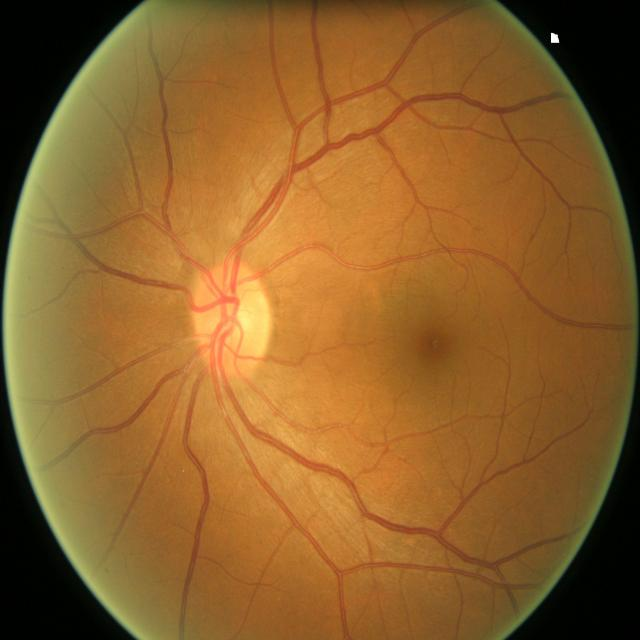OC: (214, 296, 252, 342)
OD: (190, 265, 272, 377)
